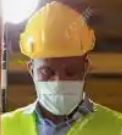with_facemask: (32, 80, 82, 114)
